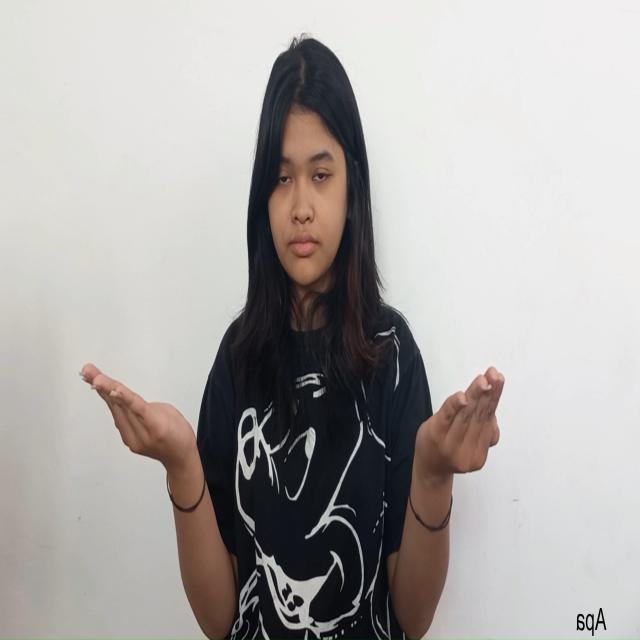Apa -BISINDO-: (78, 360, 508, 480)
